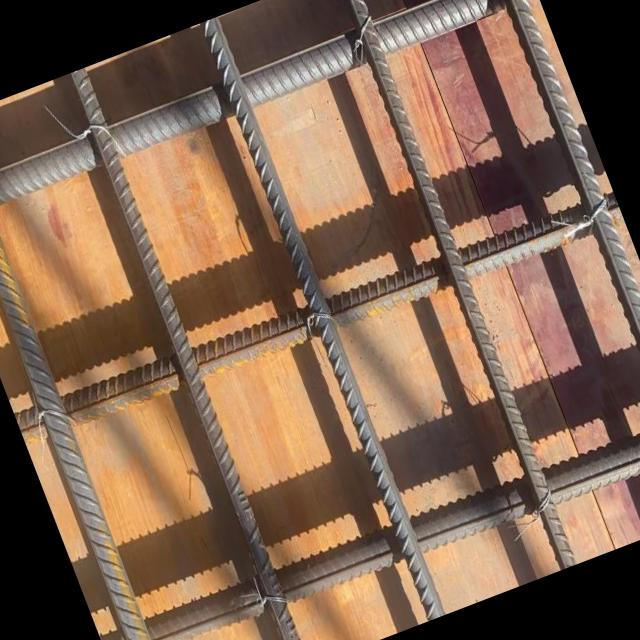ribbed bar: (14, 186, 626, 455), (199, 17, 449, 621), (64, 68, 315, 640), (331, 0, 582, 570), (99, 406, 640, 640), (0, 0, 540, 228), (0, 117, 186, 640), (473, 0, 640, 515)
